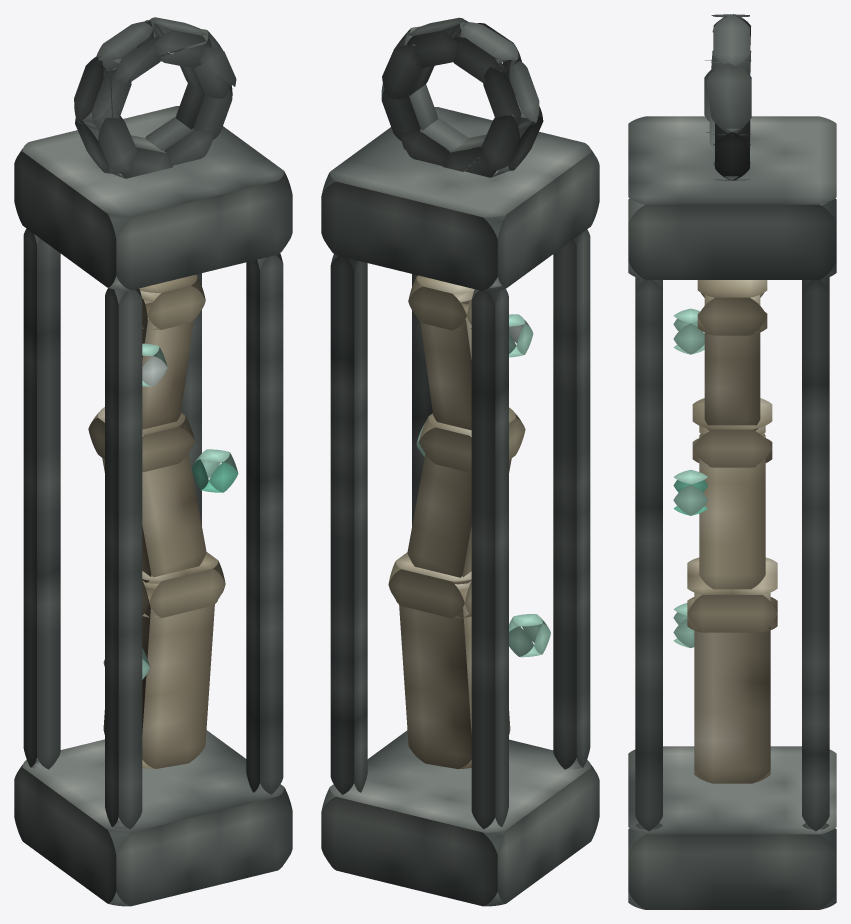
The model's file is reliquary_finger_bone.obj.
3 views of the same model, side by side, from view 1: azimuth 30°, elevation 25°; view 2: azimuth 150°, elevation 25°; view 3: azimuth 270°, elevation 25° (orthographic). The views are drawn at different scales.
Parts seen in each view (by area): view 1: lit, fire; view 2: lit, fire; view 3: lit, fire.
Boxes of the visible parts, <box> form: lit: <box>14,17,292,906</box>; fire: <box>103,343,238,679</box>; lit: <box>321,17,599,906</box>; fire: <box>416,314,550,657</box>; lit: <box>628,14,836,909</box>; fire: <box>673,308,707,647</box>.
Bounding box in the file's own units: 0.1875 × 0.8434 × 0.1875.
